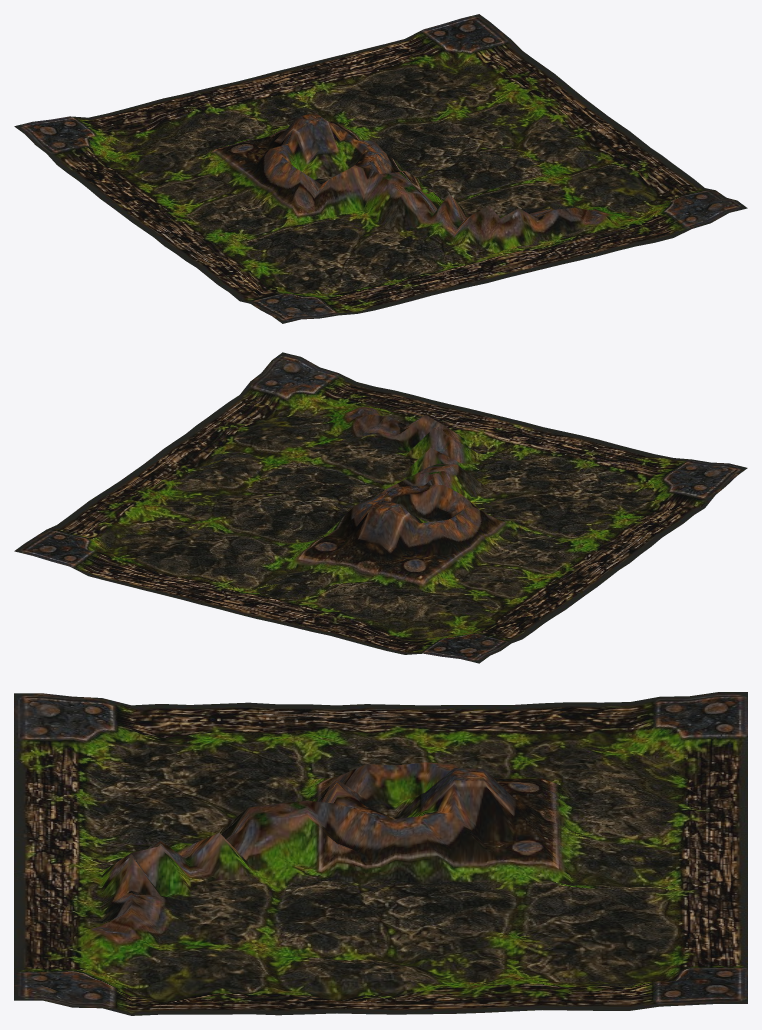
File: prison-floor-5.glb
3 renders of one model, top to bottom at view 1: azimuth 30°, elevation 25°; view 2: azimuth 150°, elevation 25°; view 3: azimuth 270°, elevation 25°, orthographic. The views are drawn at different scales.
Visible parts, largest first — view 1: floortile5; view 2: floortile5; view 3: floortile5.
Boxes of the visible parts, left/top/right/bottom form: floortile5: left=14, top=14, right=747, bottom=323; floortile5: left=14, top=352, right=747, bottom=663; floortile5: left=14, top=692, right=747, bottom=1015.
Bounding box in the file's own units: 2 × 0.219 × 2.
Materials: 1 (1 with a texture image).
